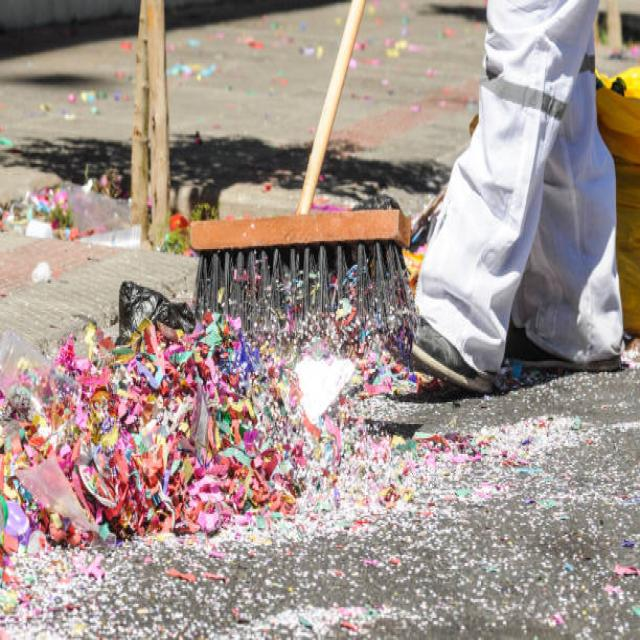trash: (10, 273, 368, 531)
